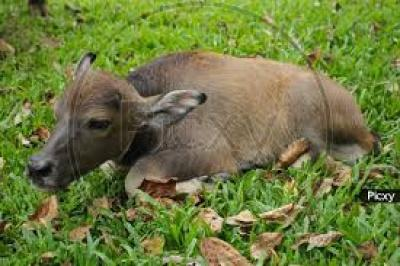buffalo: (27, 51, 378, 195)
